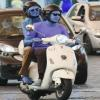motorcycles: (37, 35, 83, 100)
